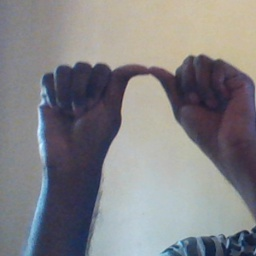A: (37, 50, 255, 175)
